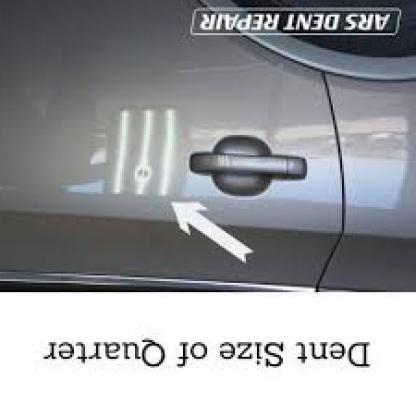dent: (127, 156, 160, 186)
